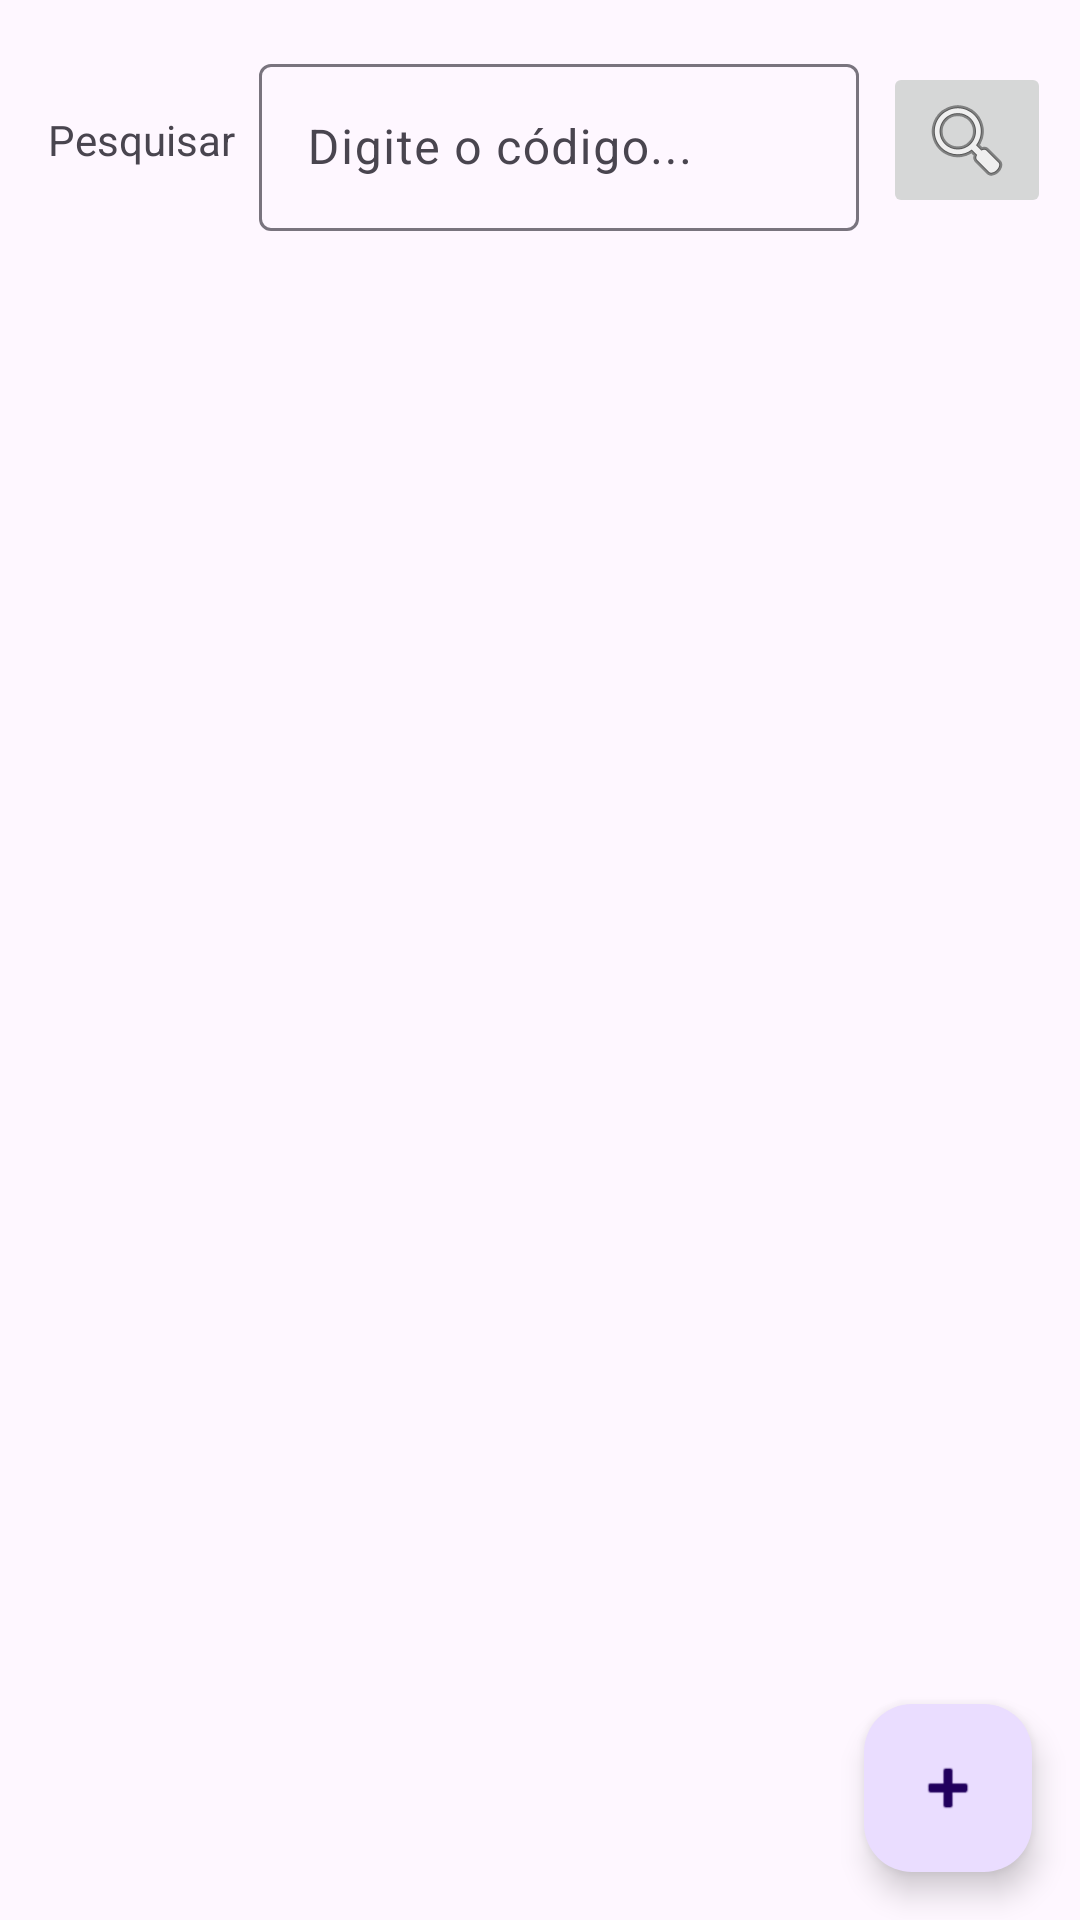

Named icons in this screenshot (1080px×1920px) and their centers, point (x, y):
add: point (948, 1788)
Pesquisar: point (967, 140)
